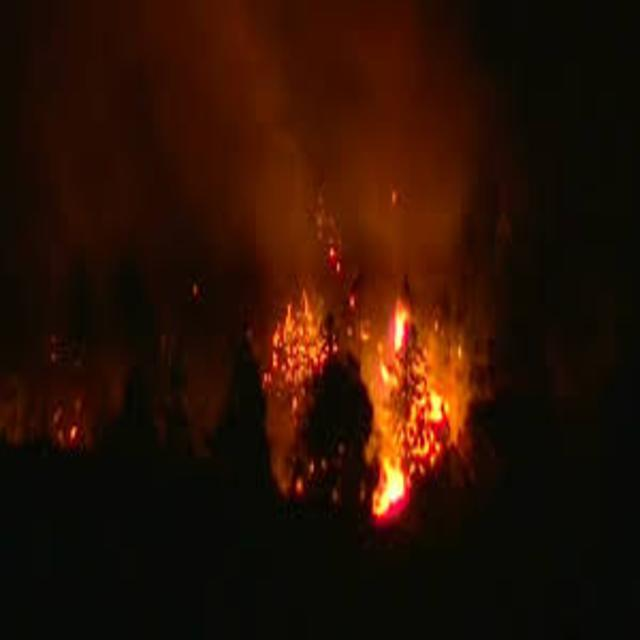Fire: (258, 281, 491, 529)
Smoke: (178, 5, 471, 278)
